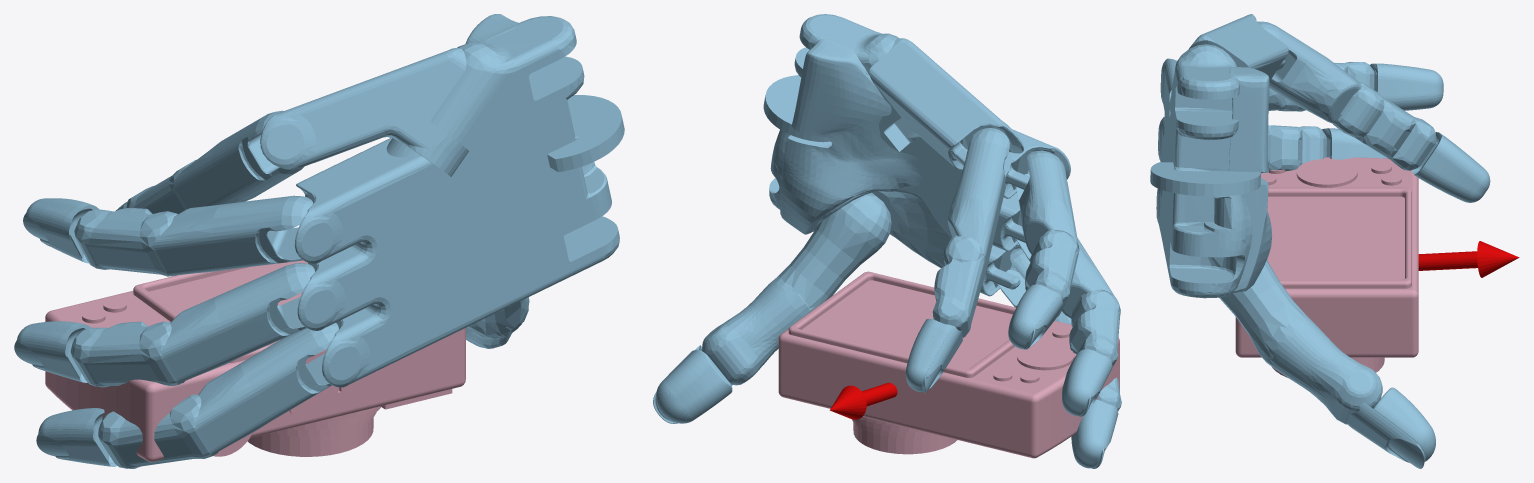
3 views of the same model, side by side, from view 1: azimuth 30°, elevation 25°; view 2: azimuth 150°, elevation 25°; view 3: azimuth 270°, elevation 25° (orthographic). The views are drawn at different scales.
Visible parts, largest first — view 1: world, camera.stl; view 2: world, camera.stl; view 3: world, camera.stl.
Part boxes in pixels (bbox=[...]): world: bbox=[14, 14, 624, 468]; camera.stl: bbox=[45, 260, 465, 461]; world: bbox=[653, 14, 1121, 468]; camera.stl: bbox=[778, 271, 1119, 458]; world: bbox=[1150, 14, 1519, 468]; camera.stl: bbox=[1235, 157, 1418, 377].
Size of the model in its own units: 0.1819 by 0.1424 by 0.1306.
